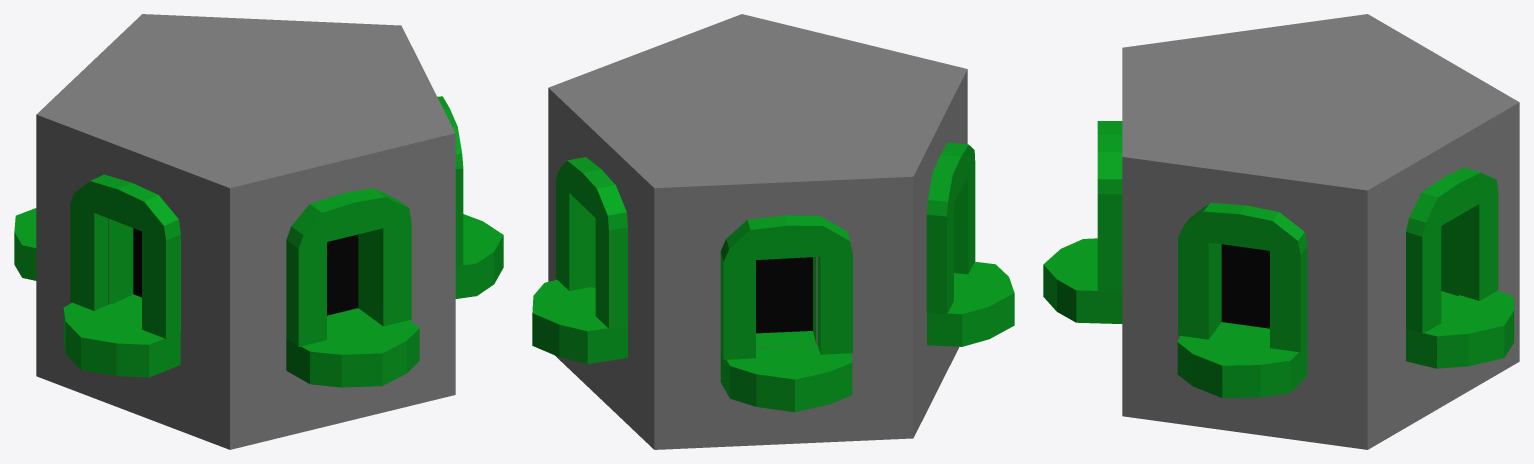
The model's file is towerblockrange2.fbx.
3 renders of one model, left to right at view 1: azimuth 30°, elevation 25°; view 2: azimuth 150°, elevation 25°; view 3: azimuth 270°, elevation 25°, orthographic.
Parts seen in each view (by area): view 1: Cylinder; view 2: Cylinder; view 3: Cylinder.
Boxes of the visible parts, <box> form: Cylinder: <box>14,14,503,449</box>; Cylinder: <box>532,14,1014,449</box>; Cylinder: <box>1043,14,1519,449</box>.
Bounding box in the file's own units: 192 × 114 × 189.
